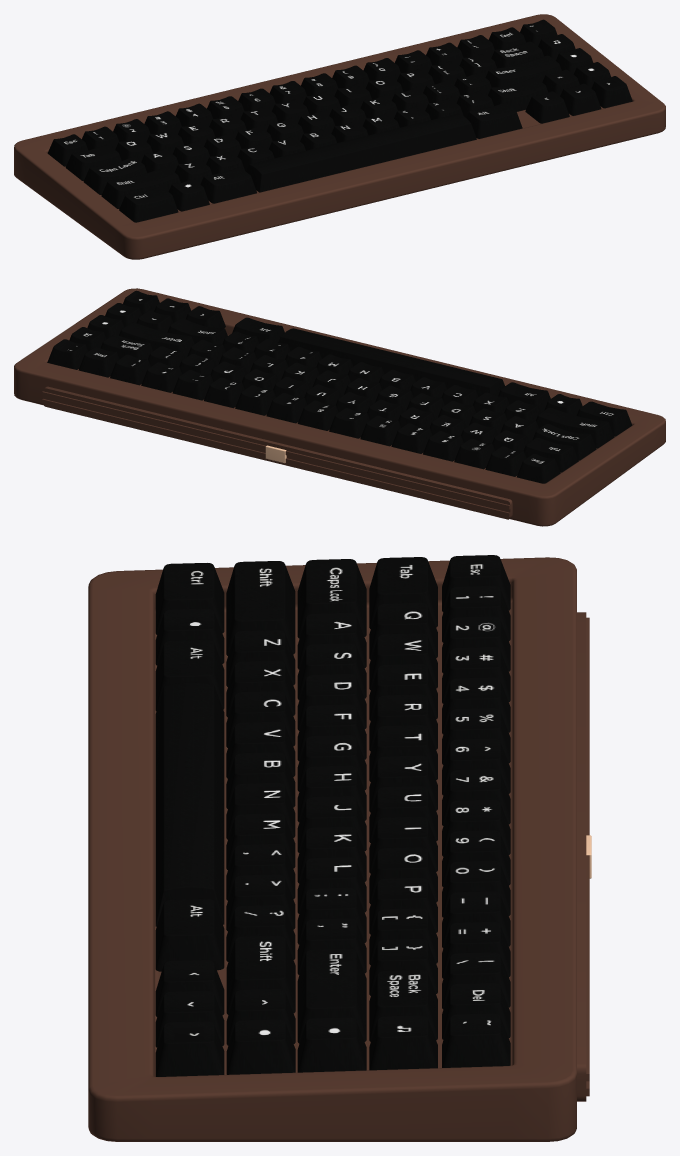
File: keyboard.glb
The picture shows the model from 3 angles, top to bottom: view 1: azimuth 30°, elevation 25°; view 2: azimuth 150°, elevation 25°; view 3: azimuth 270°, elevation 25°; orthographic projection. The views are drawn at different scales.
Parts seen in each view (by area): view 1: Base, space, shift_l, ctrl_l, alt_l, enter, alt_r, caps, shift_r, tab, left, down (+56 smaller); view 2: Base, base_back, space, shift_l, enter, caps, tab, ctrl_l, esc, shift_r, 8, 1 (+57 smaller); view 3: Base, space, base_back, shift_l, enter, alt_r, caps, shift_r, right, none.001, none, music (+57 smaller).
Boxes of the visible parts, left/top/right/bottom form: Base: left=14, top=14, right=665, bottom=259; space: left=246, top=113, right=476, bottom=192; shift_l: left=101, top=167, right=180, bottom=208; ctrl_l: left=119, top=187, right=178, bottom=222; alt_l: left=200, top=167, right=256, bottom=203; enter: left=485, top=55, right=561, bottom=87; alt_r: left=466, top=103, right=522, bottom=138; caps: left=83, top=157, right=147, bottom=194; shift_r: left=488, top=77, right=548, bottom=111; tab: left=65, top=144, right=121, bottom=180; left: left=525, top=91, right=569, bottom=123; down: left=560, top=83, right=601, bottom=115; Base: left=14, top=288, right=665, bottom=526; base_back: left=42, top=386, right=512, bottom=519; space: left=278, top=328, right=504, bottom=396; shift_l: left=536, top=407, right=614, bottom=448; enter: left=119, top=322, right=194, bottom=357; caps: left=532, top=423, right=596, bottom=460; tab: left=523, top=437, right=578, bottom=472; ctrl_l: left=576, top=401, right=632, bottom=436; esc: left=517, top=454, right=560, bottom=483; shift_r: left=167, top=318, right=227, bottom=344; 8: left=266, top=392, right=307, bottom=423; 1: left=485, top=446, right=526, bottom=476; Base: left=88, top=557, right=576, bottom=1141; space: left=155, top=682, right=224, bottom=926; base_back: left=577, top=612, right=589, bottom=1101; shift_l: left=226, top=561, right=295, bottom=655; enter: left=297, top=948, right=366, bottom=1043; alt_r: left=155, top=898, right=224, bottom=971; caps: left=297, top=559, right=366, bottom=638; shift_r: left=226, top=935, right=295, bottom=1014; right: left=155, top=1021, right=224, bottom=1076; none.001: left=226, top=1019, right=295, bottom=1074; none: left=297, top=1017, right=366, bottom=1072; music: left=369, top=1015, right=437, bottom=1070.
Bounding box in the file's own units: 3.72 × 0.278 × 1.5.
4 materials, 2 textured.
